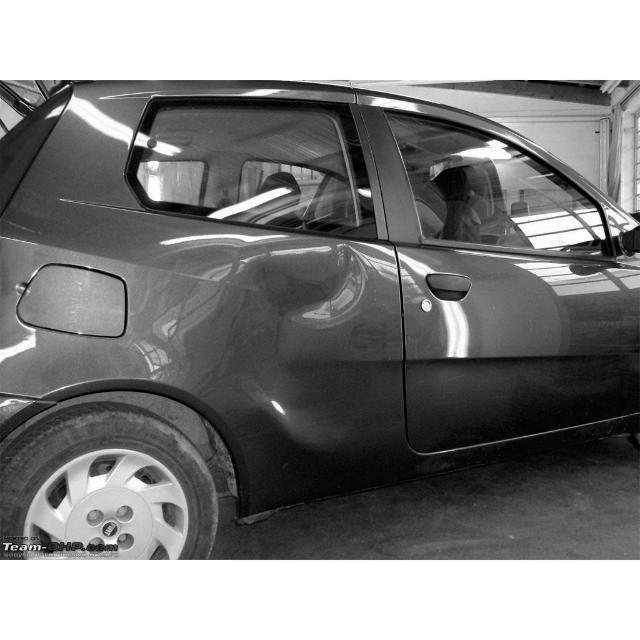quaterpanel-dent: (1, 237, 393, 430)
